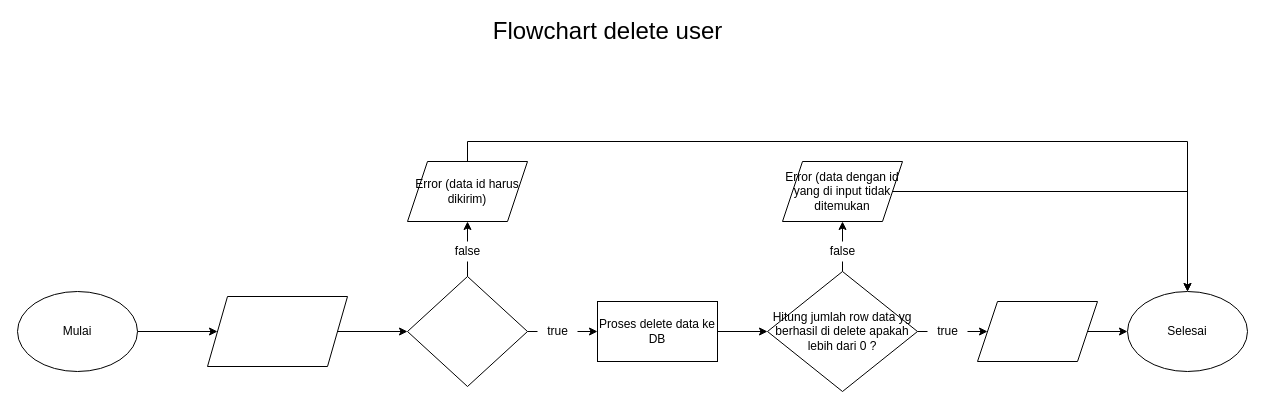
Some shapes in this 1265 by 409 pixel diagram are drawn without their labels. The shapes that lost their labels are listed below. From the top down, each one's centre as x and y in pixels, then its label:
At [277,331]: "Input data id dari url parameter".
At [467,331]: "Cek data id dikirim ?".
At [1037,331]: "Data berhasil di delete".
